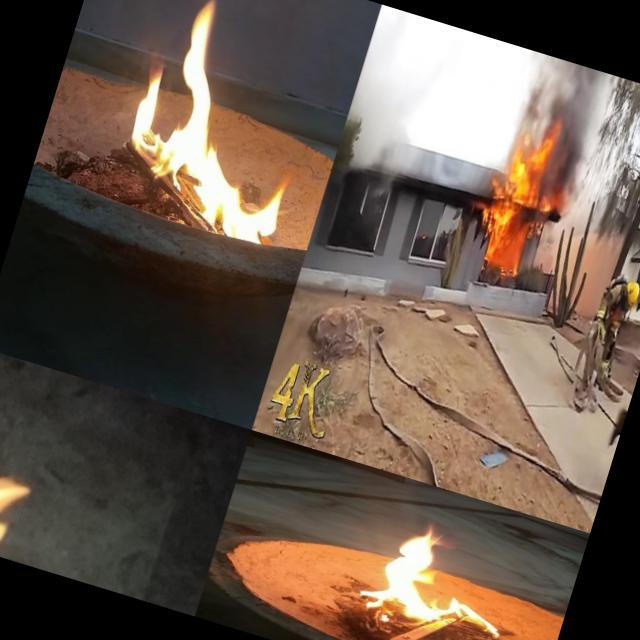fire: (107, 0, 337, 250), (348, 512, 532, 640), (0, 378, 69, 563), (475, 134, 553, 262)
smoke: (512, 57, 608, 155)
